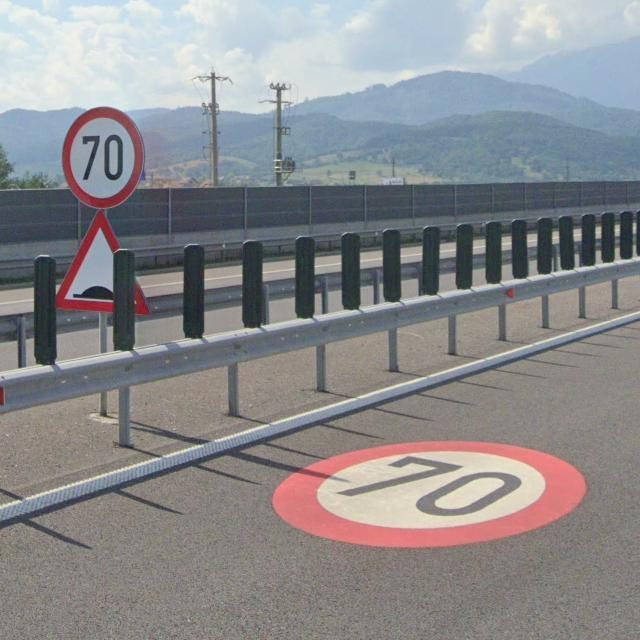forb_speed_over_70: (272, 440, 592, 553), (61, 107, 148, 209)
